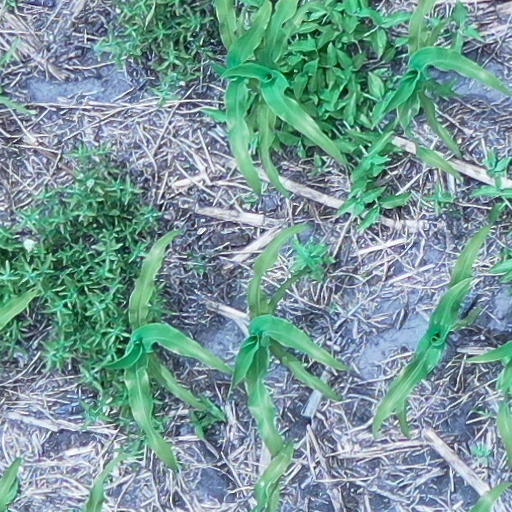planta: (93, 224, 239, 475), (226, 219, 353, 460), (366, 218, 497, 440)
